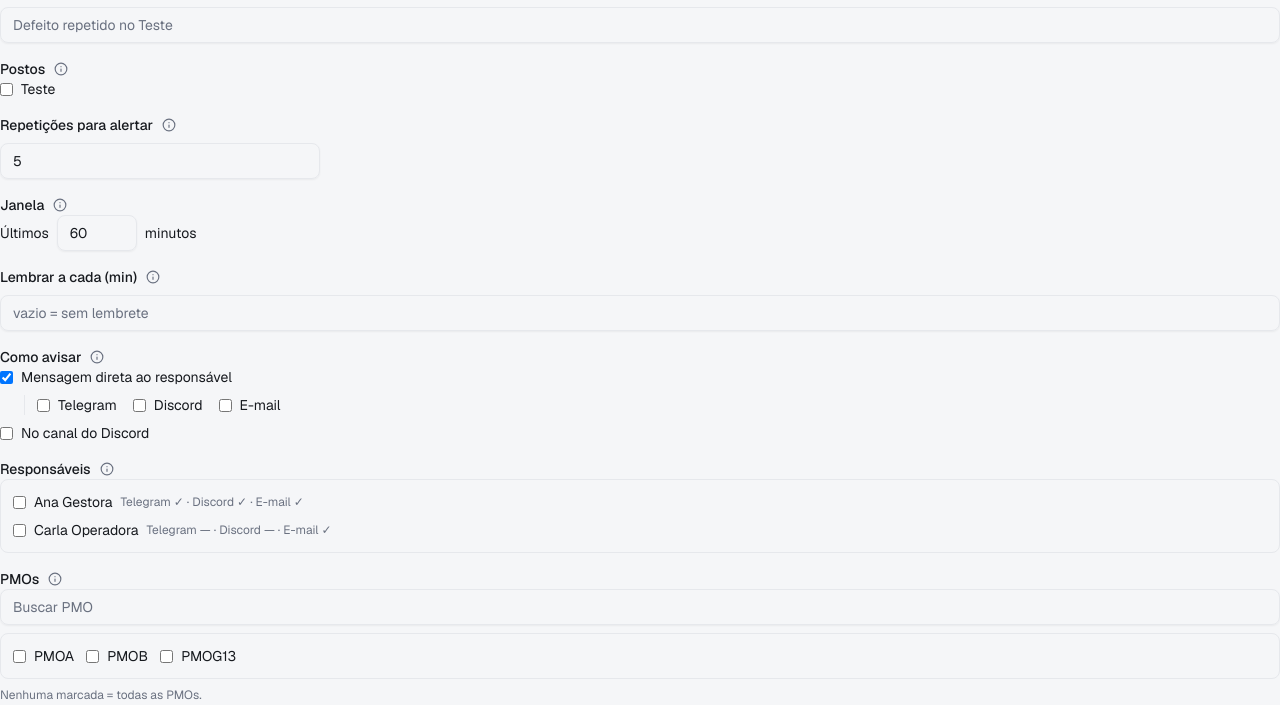
Test: RegraForm — defeito repetido › prévia lista os defeitos que chegam ao limite, por posto
The image size is (1280, 705).
Click the checkbox labelled "Teste" at (6, 89), box [0, 82, 13, 96]
(page scrolled)
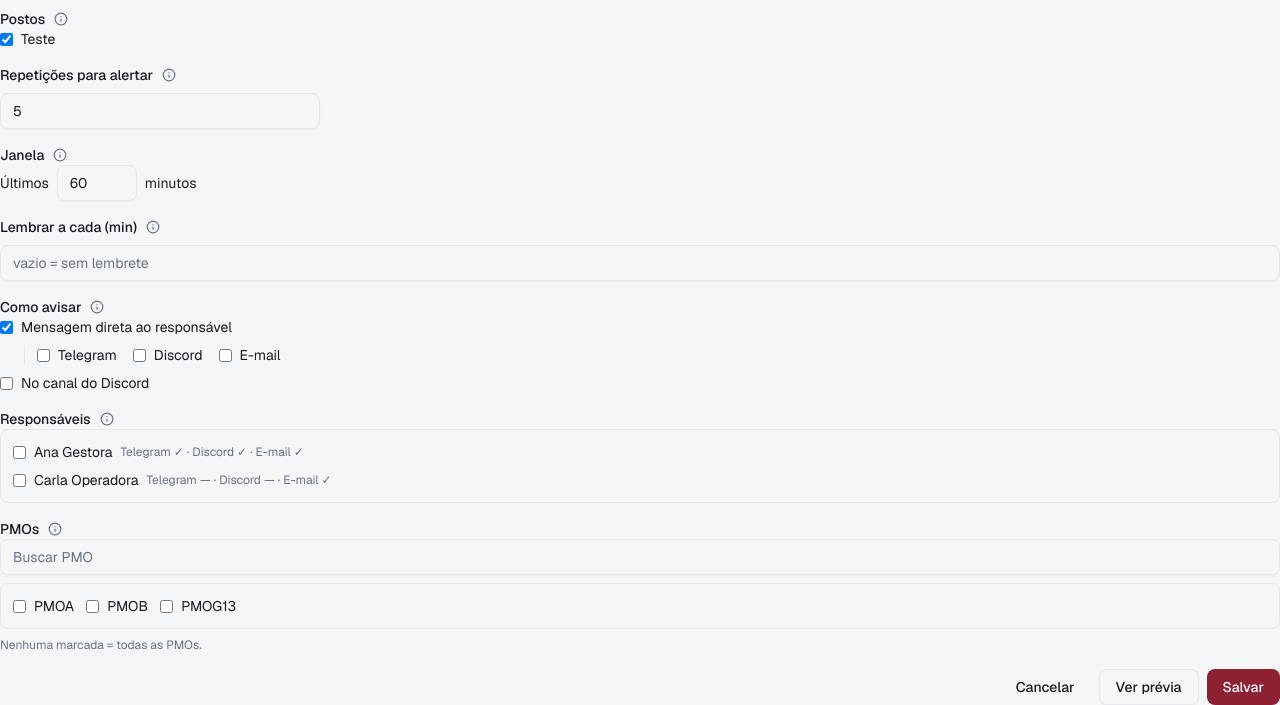
Click the button "Ver prévia" at (1149, 687), box [1099, 669, 1198, 704]
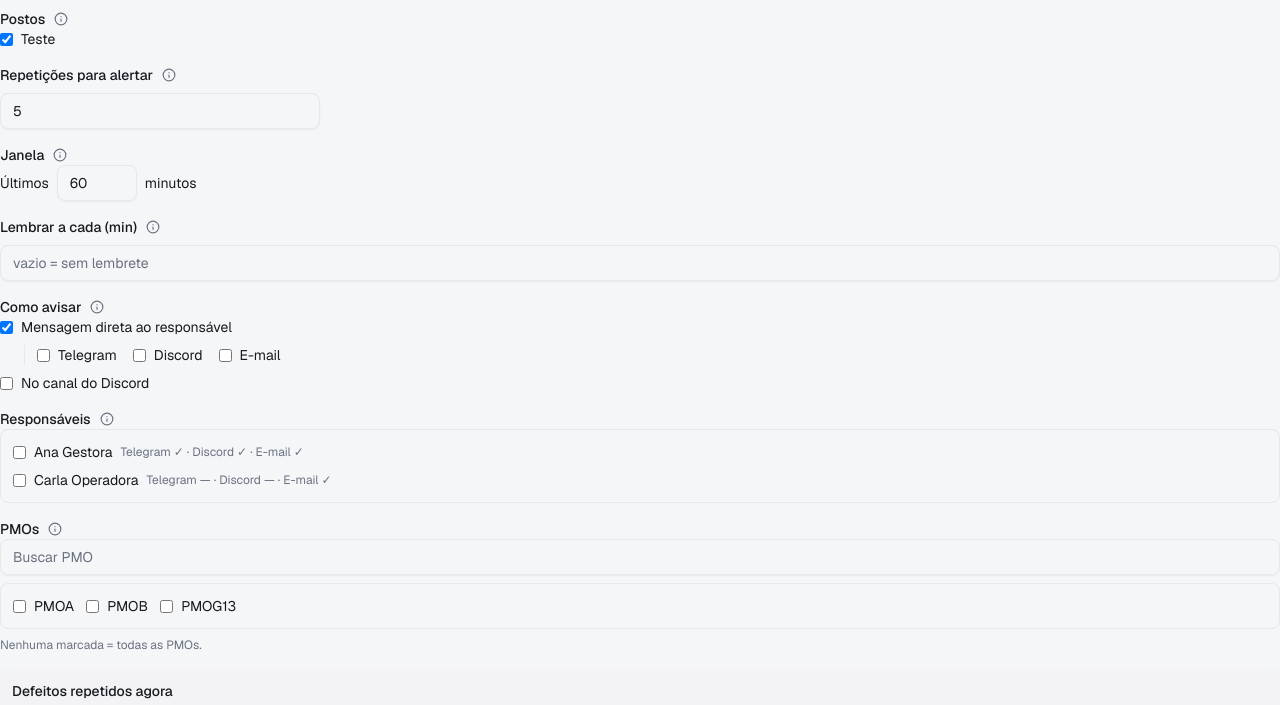
Now the text "Defeitos repetidos agora" is shown, box [12, 682, 173, 700]
